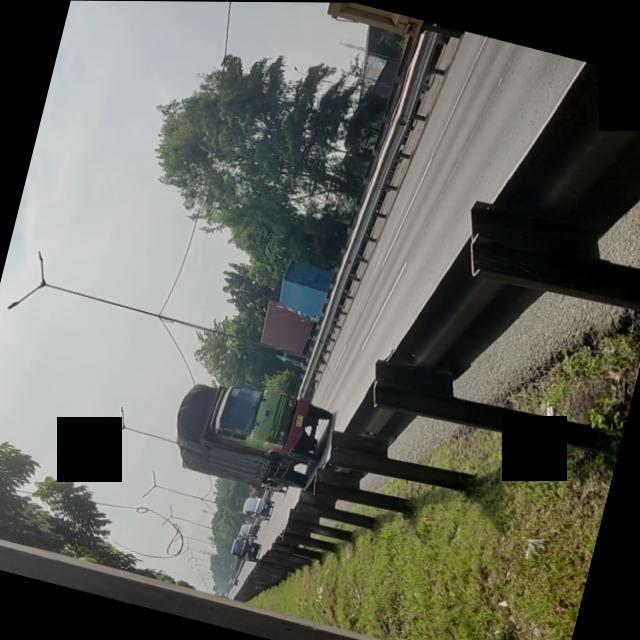Golongan II: (172, 364, 338, 502)
